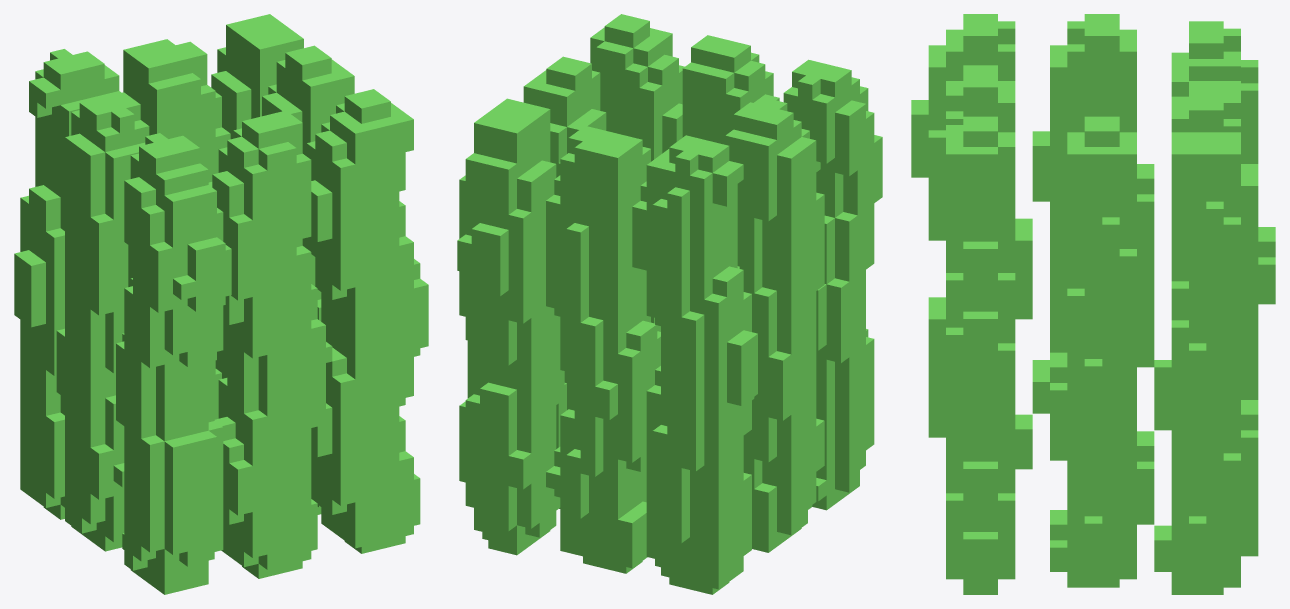
Rendered from TallGrass.fbx.
3 views of the same model, side by side, from view 1: azimuth 30°, elevation 25°; view 2: azimuth 150°, elevation 25°; view 3: azimuth 270°, elevation 25° (orthographic). The views are drawn at different scales.
Parts seen in each view (by area): view 1: Grass; view 2: Grass; view 3: Grass.
Part boxes in pixels (left/top/right/bottom): Grass: left=14, top=14, right=428, bottom=594; Grass: left=457, top=14, right=882, bottom=594; Grass: left=911, top=14, right=1275, bottom=594.
Bounding box in the file's own units: 124 × 189 × 137.
